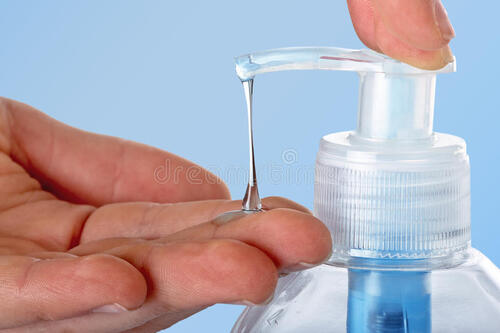sanitizer: (228, 47, 497, 330)
